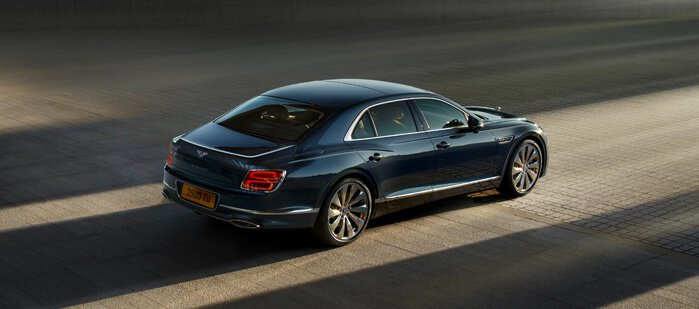car: (157, 75, 554, 248)
